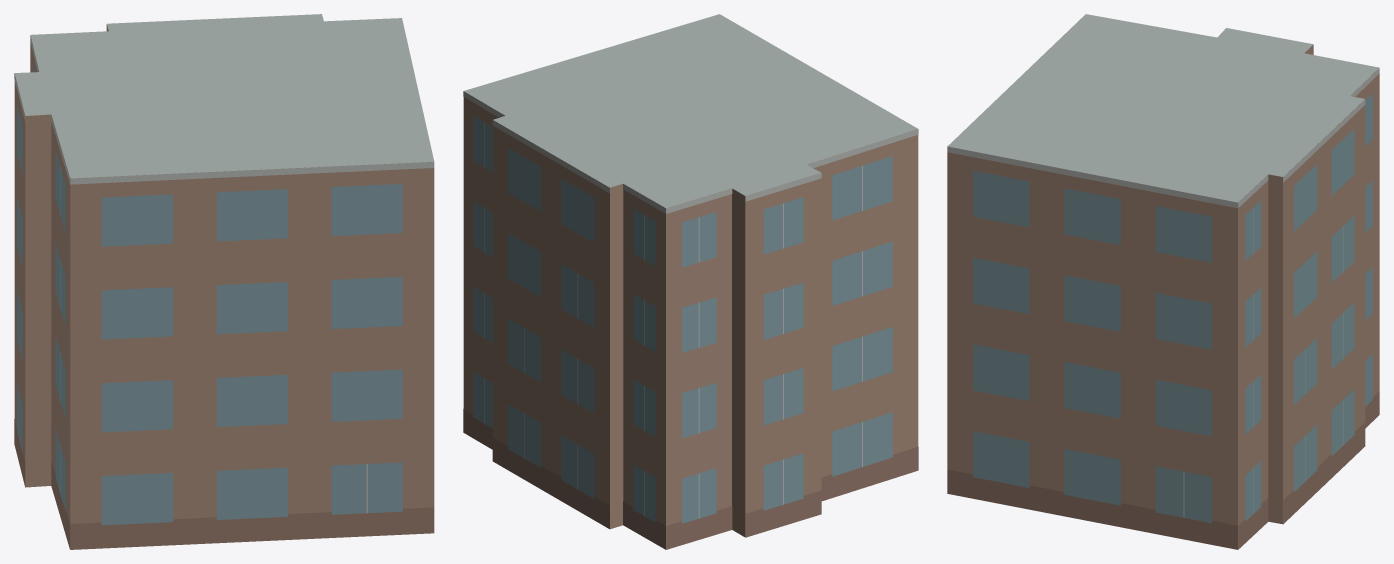
The model's file is survey-upis-32603946.glb.
3 renders of one model, left to right at view 1: azimuth 30°, elevation 25°; view 2: azimuth 150°, elevation 25°; view 3: azimuth 270°, elevation 25°, orthographic. The views are drawn at different scales.
Visible parts, largest first — view 1: survey-upis-32603946.tmp; view 2: survey-upis-32603946.tmp; view 3: survey-upis-32603946.tmp.
Part boxes in pixels (box(x1,y1,x2,y2)): survey-upis-32603946.tmp: box(14, 14, 434, 549); survey-upis-32603946.tmp: box(463, 14, 918, 549); survey-upis-32603946.tmp: box(947, 14, 1379, 549).
Size of the model in its own units: 17.13 by 14.7 by 16.59.
